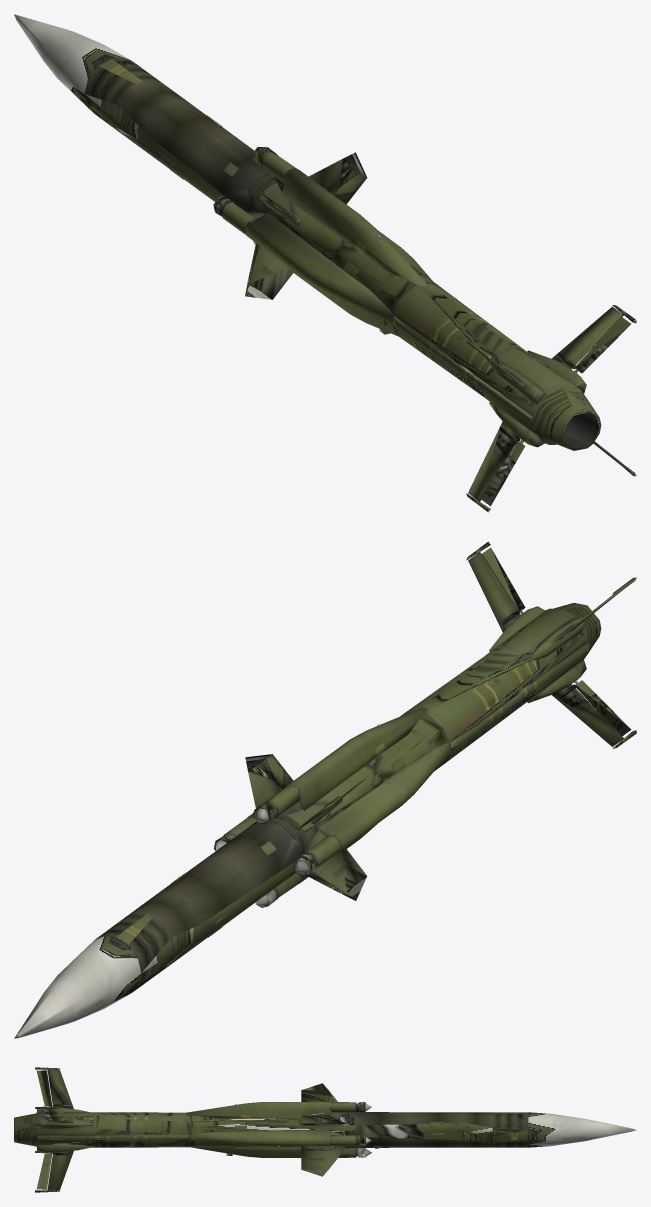
File: msl_kub_lo.glb
3 views of the same model, one above another, from view 1: azimuth 30°, elevation 25°; view 2: azimuth 150°, elevation 25°; view 3: azimuth 270°, elevation 25° (orthographic). The views are drawn at different scales.
Parts seen in each view (by area): view 1: body|M3_paint; view 2: body|M3_paint; view 3: body|M3_paint.
Part boxes in pixels (x1=…): body|M3_paint: x1=14, y1=14, x2=636, y2=512; body|M3_paint: x1=14, y1=541, x2=636, y2=1038; body|M3_paint: x1=14, y1=1067, x2=636, y2=1192.
Bounding box in the file's own units: 0.8868 × 0.8868 × 5.84.
Materials: 1 (1 with a texture image).
